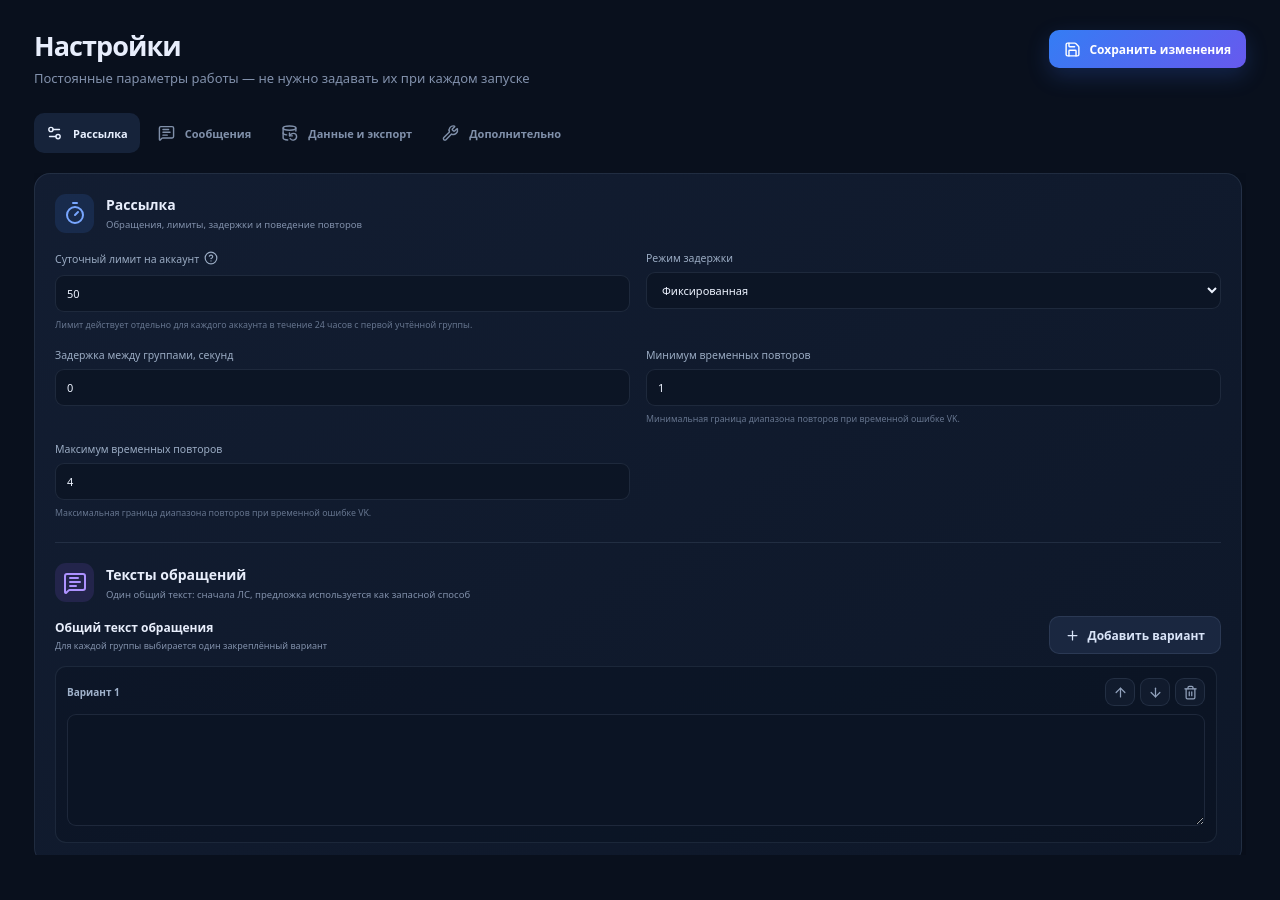
SettingsPage v0.4.9 scale › loads the persisted scale into the draft after restart/query load
Click the tab "Дополнительно": coordinates (502, 133) [430, 113, 573, 153]
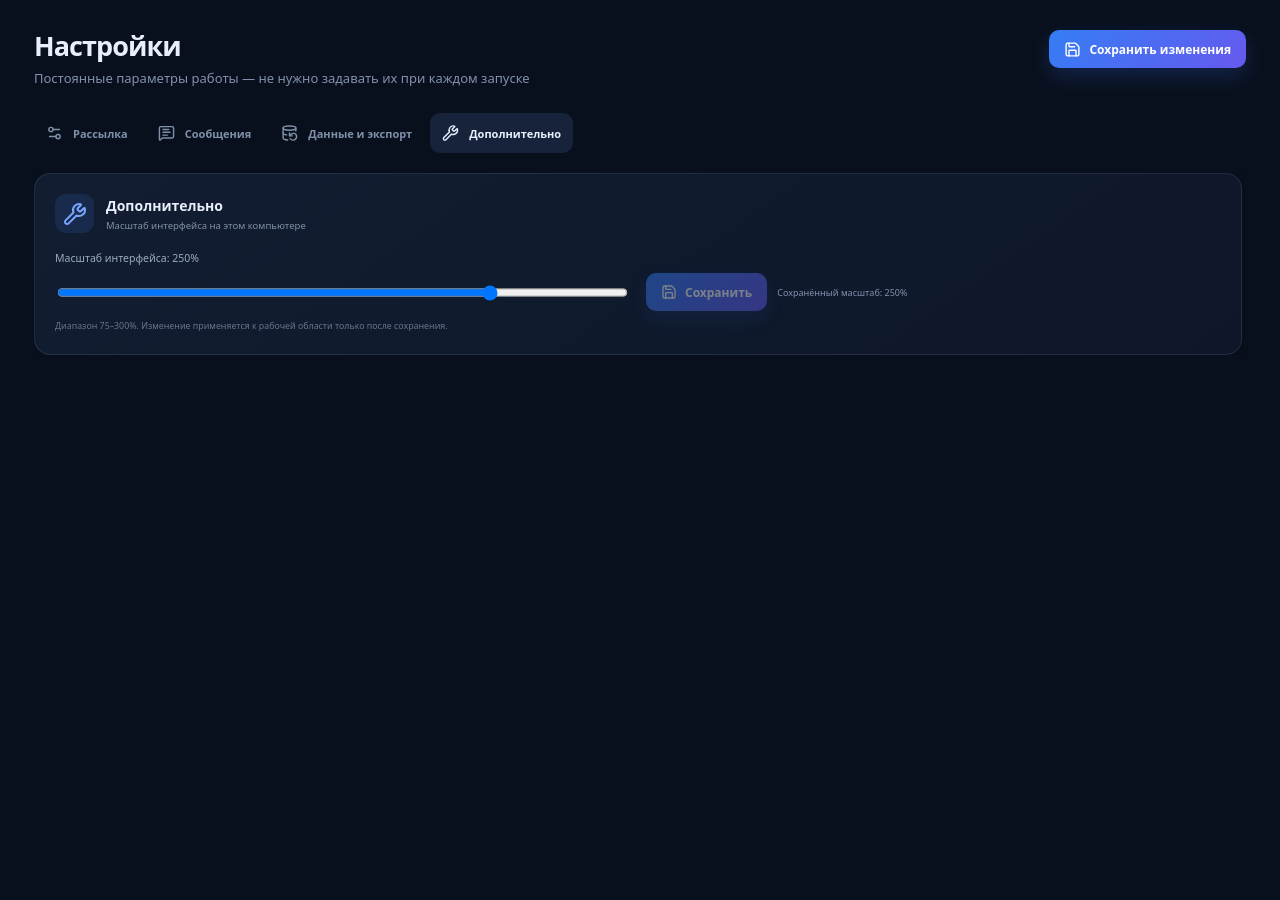
Now the slider labelled "Масштаб интерфейса" holds "250", box [57, 274, 628, 311]
